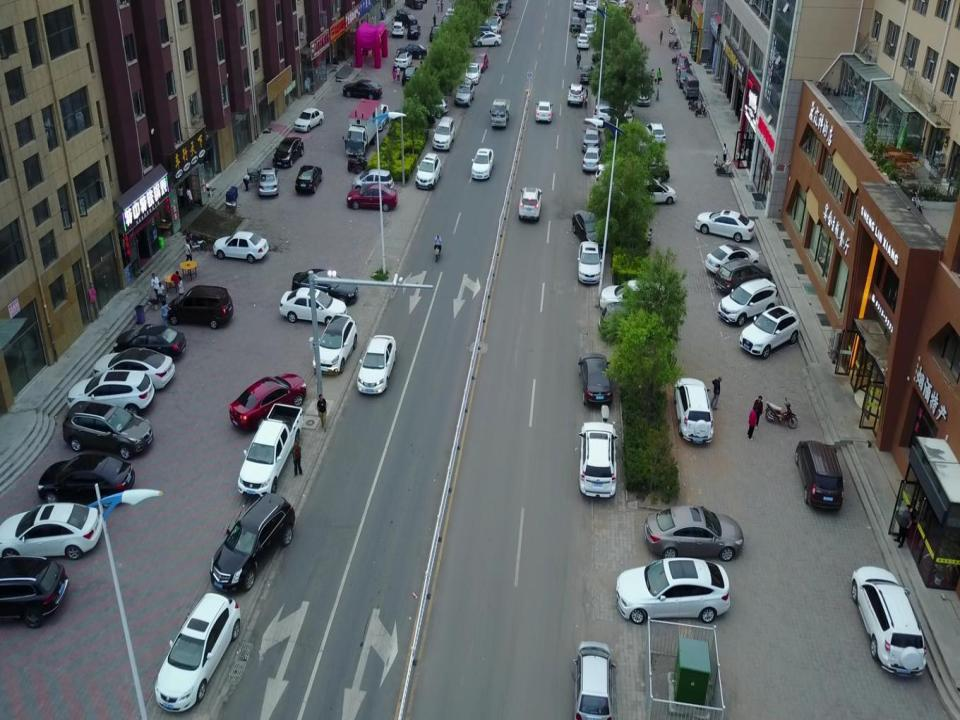car: (154, 593, 240, 712), (210, 493, 295, 595), (615, 556, 730, 624), (0, 503, 103, 564), (644, 505, 744, 562), (63, 401, 153, 460), (37, 454, 135, 508), (0, 556, 68, 628), (66, 369, 156, 418), (230, 374, 306, 431), (93, 347, 175, 393), (739, 305, 800, 359), (578, 422, 618, 498), (718, 278, 778, 328), (598, 302, 671, 341), (313, 314, 357, 376), (279, 287, 347, 327), (113, 324, 186, 361), (674, 378, 714, 444), (292, 269, 359, 306), (357, 335, 396, 394), (599, 280, 669, 312), (715, 257, 772, 295), (695, 210, 755, 243), (578, 353, 613, 407), (212, 231, 269, 264), (704, 245, 760, 275), (347, 183, 398, 212), (572, 210, 608, 251), (595, 162, 647, 189), (629, 178, 677, 204), (625, 158, 670, 185), (577, 241, 603, 284), (351, 168, 394, 193), (395, 103, 436, 129), (592, 104, 633, 128), (415, 153, 441, 190), (272, 138, 304, 168), (247, 167, 279, 196), (518, 187, 543, 221), (343, 79, 382, 100), (294, 107, 324, 133), (415, 96, 448, 119), (295, 166, 322, 194), (471, 148, 493, 180), (366, 103, 389, 131), (595, 92, 628, 111), (582, 147, 605, 173), (454, 79, 474, 106), (644, 122, 666, 146), (397, 43, 427, 60), (582, 128, 602, 153), (471, 31, 502, 47), (402, 66, 422, 86), (675, 68, 694, 89), (568, 83, 585, 106), (470, 24, 494, 40), (535, 101, 553, 122), (394, 13, 418, 28), (464, 63, 480, 85), (393, 52, 412, 70), (485, 16, 502, 35), (635, 86, 651, 106), (472, 53, 488, 73), (601, 0, 625, 12), (676, 56, 692, 74), (580, 65, 595, 83), (391, 20, 405, 38), (578, 5, 597, 18), (407, 23, 421, 40), (429, 26, 443, 42), (570, 17, 582, 33), (577, 33, 589, 49), (584, 25, 596, 40), (440, 16, 454, 28), (445, 7, 456, 19), (573, 0, 583, 11), (586, 0, 597, 8)
truck: (238, 403, 304, 499), (342, 98, 382, 157), (490, 99, 510, 129)
van: (851, 566, 926, 677), (795, 440, 844, 511), (573, 641, 616, 720), (167, 286, 234, 330), (432, 116, 455, 152), (682, 75, 699, 99), (495, 0, 509, 17), (585, 11, 596, 26), (405, 0, 422, 9)
